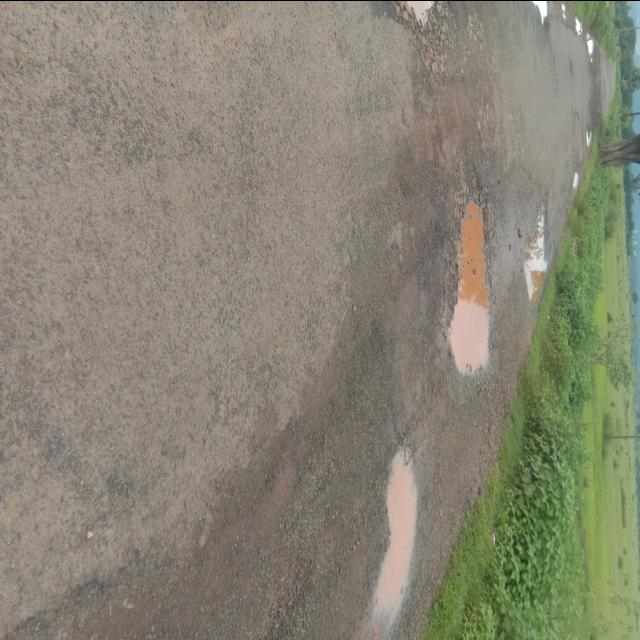potholes: (442, 186, 498, 382), (368, 440, 422, 640), (520, 196, 550, 312), (383, 0, 446, 44), (562, 161, 584, 189), (533, 0, 554, 26), (586, 28, 598, 64), (554, 0, 571, 22), (572, 6, 583, 34), (582, 132, 598, 146)
